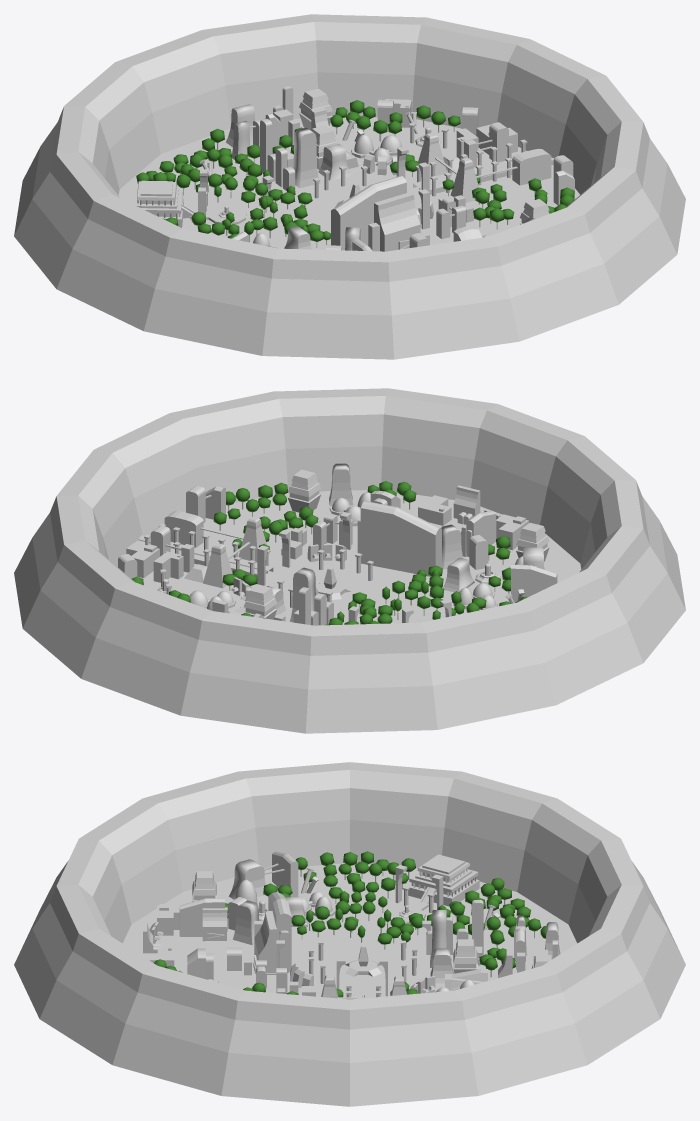
Rendered from Knowledge.fbx.
3 renders of one model, top to bottom at view 1: azimuth 30°, elevation 25°; view 2: azimuth 150°, elevation 25°; view 3: azimuth 270°, elevation 25°, orthographic.
Parts seen in each view (by area): view 1: Cylinder, Куб.087, Куб.051, Куб.092, Куб.023, Cube, Cube.036, Cube.021, Куб.088, Cube.035, Плоскость.003, Куб.012 (+4 smaller); view 2: Cylinder, Куб.087, Куб.079, Cube.020, Куб.023, Cube.022, Cube.035, Куб.068, Cube.023, Куб.074, Куб.071, Куб.011 (+11 smaller); view 3: Cylinder, Cube, Куб.011, Куб.051, Куб, Куб.079, Куб.061, Куб.087, Cube.022, Куб.013, Куб.092, Cube.023 (+4 smaller).
Boxes of the visible parts, x1,y1,x2,y2 form: Cylinder: (14,14,685,359); Куб.087: (331,176,406,250); Куб.051: (374,192,420,251); Куб.092: (293,127,320,188); Куб.023: (512,149,551,185); Cube: (131,180,183,227); Cube.036: (450,157,478,202); Cube.021: (299,88,332,130); Куб.088: (318,143,351,180); Cube.035: (418,132,446,177); Плоскость.003: (413,157,553,194); Куб.012: (489,122,508,162); Cylinder: (14,388,685,733); Куб.087: (360,501,441,576); Куб.079: (511,564,557,602); Cube.020: (288,469,321,512); Куб.023: (164,511,203,547); Cube.022: (244,584,277,619); Cube.035: (203,543,232,588); Куб.068: (418,495,451,525); Cube.023: (516,522,549,561); Куб.074: (329,463,353,506); Куб.071: (443,557,474,592); Куб.011: (466,511,496,556); Cylinder: (14,762,685,1106); Cube: (408,854,479,906); Куб.011: (179,898,224,936); Куб.051: (254,911,277,973); Куб: (228,859,268,903); Куб.079: (272,851,298,897); Куб.061: (233,900,259,945); Куб.087: (268,892,291,971); Cube.022: (453,939,477,973); Куб.013: (202,908,226,941); Куб.092: (430,910,447,967); Cube.023: (192,871,216,901).
Bounding box in the file's own units: 1733 × 291 × 1733.
